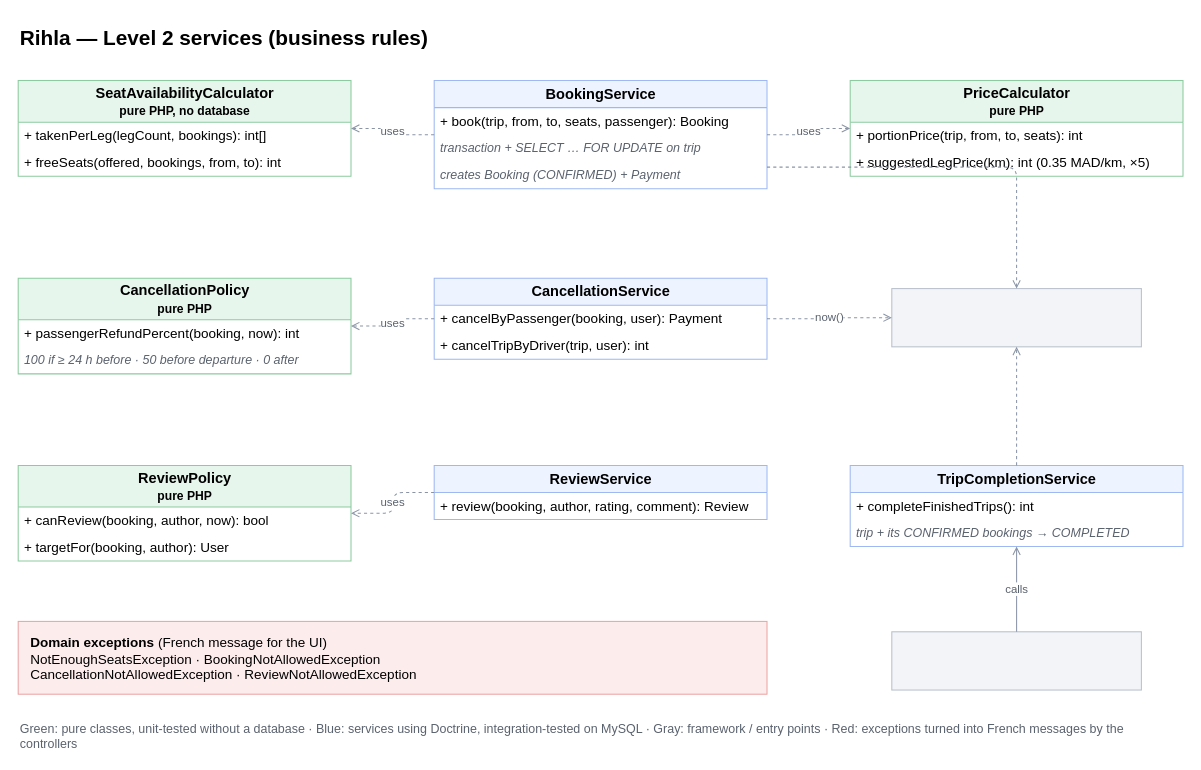
Image size: 1201x770. Some labels were removed from this diagram. The shapes that lost their labels are listed below. From the top down, each one's centre as x and y in pixels, then its label:
[1016,317]: ClockInterface Symfony Clock · MockClock in tests
[1016,660]: app:trips:complete console command (cron)
